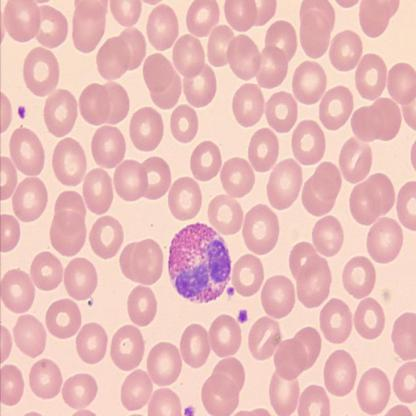Eosinophil: (168, 222, 232, 307)
